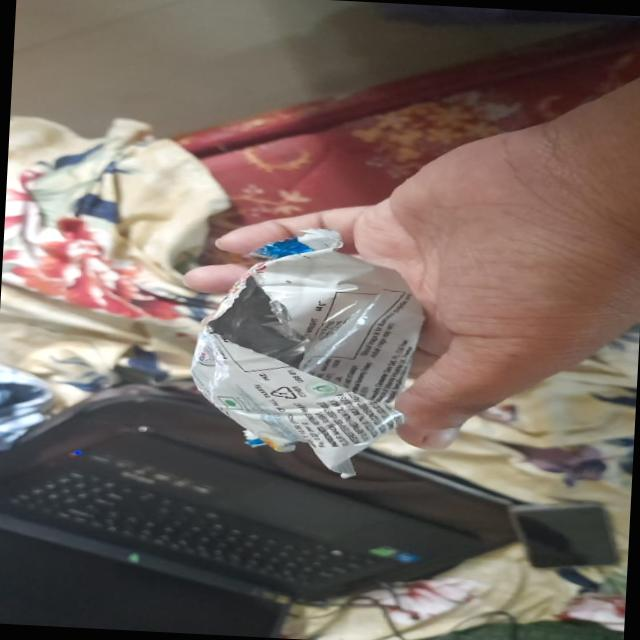Plastic - Recyclable: (182, 222, 435, 483)
